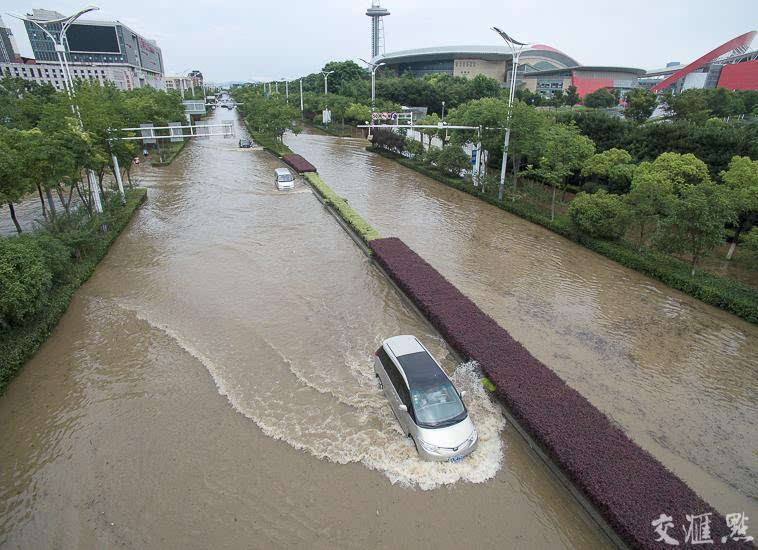puddle: (111, 169, 713, 550)
